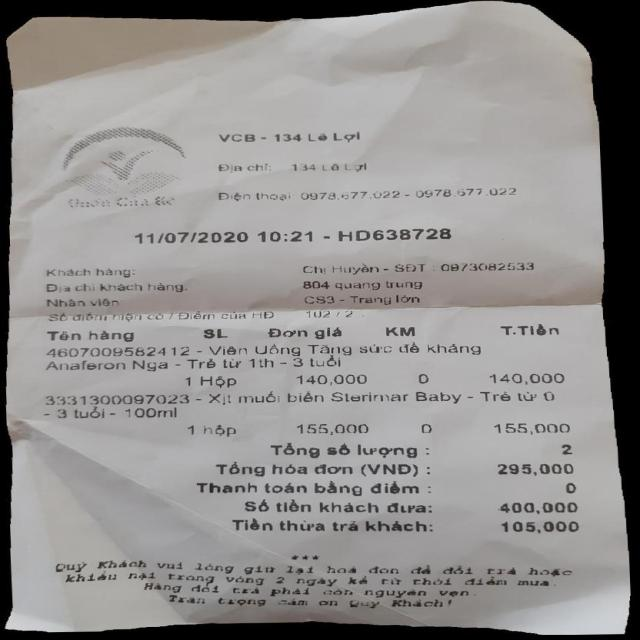Date: (130, 230, 253, 246)
Store_Name: (218, 130, 372, 149)
amount_number: (491, 458, 576, 476)
label_total: (207, 459, 421, 478)
